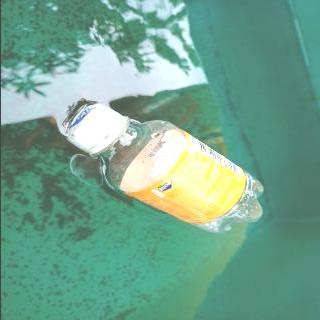bottle: (66, 102, 265, 236)
